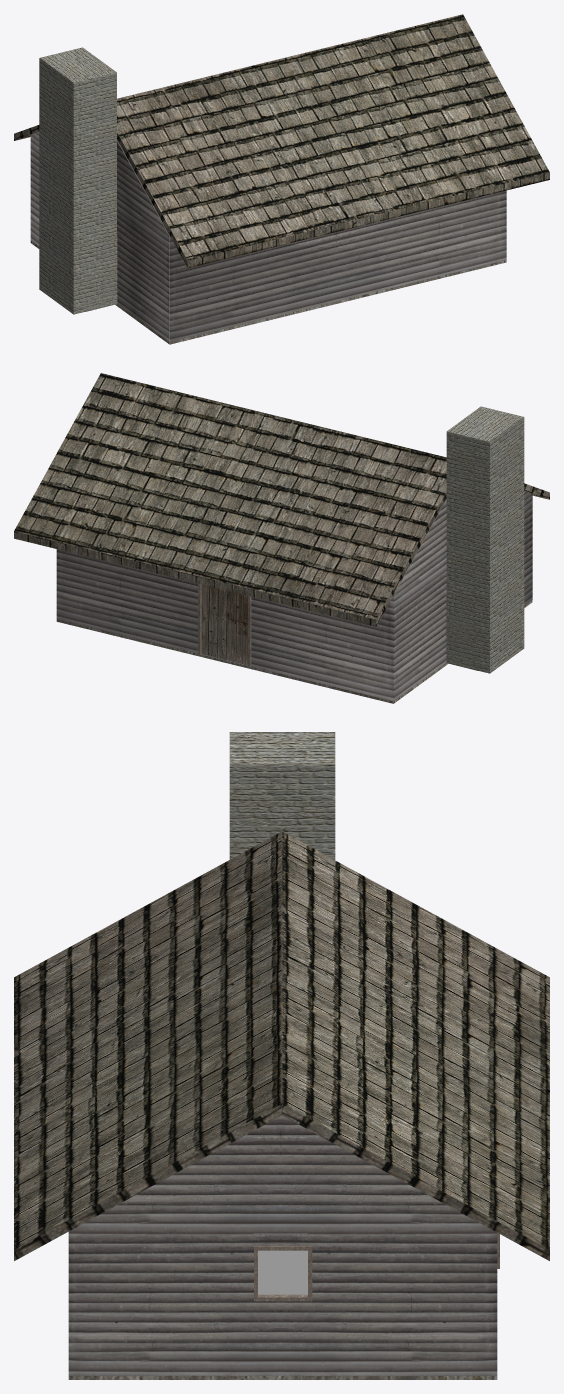
The model's file is Log Cabin.FBX.
The picture shows the model from 3 angles, top to bottom: view 1: azimuth 30°, elevation 25°; view 2: azimuth 150°, elevation 25°; view 3: azimuth 270°, elevation 25°; orthographic projection. The views are drawn at different scales.
Visible parts, largest first — view 1: Cabin Roof, Cabin in the Woods, Log Cabin Chimney, Log Cabin Floor; view 2: Cabin Roof, Cabin in the Woods, Log Cabin Chimney, Log Cabin Door, Log Cabin Floor, Cabin Door Frame; view 3: Cabin Roof, Cabin in the Woods, Log Cabin Chimney, Log Cabin Window Glass, Log Cabin Floor, Cabin Window Frame.
Boxes of the visible parts, bbox=[...] form: Cabin Roof: bbox=[14, 14, 549, 267]; Cabin in the Woods: bbox=[30, 131, 506, 341]; Log Cabin Chimney: bbox=[39, 47, 117, 314]; Log Cabin Floor: bbox=[30, 241, 506, 344]; Cabin Roof: bbox=[14, 373, 549, 626]; Cabin in the Woods: bbox=[56, 491, 532, 701]; Log Cabin Chimney: bbox=[446, 406, 524, 673]; Log Cabin Door: bbox=[201, 584, 247, 665]; Log Cabin Floor: bbox=[56, 600, 532, 703]; Cabin Door Frame: bbox=[198, 583, 251, 667]; Cabin Roof: bbox=[14, 831, 549, 1260]; Cabin in the Woods: bbox=[68, 843, 497, 1375]; Log Cabin Chimney: bbox=[229, 732, 335, 1092]; Log Cabin Window Glass: bbox=[258, 1250, 307, 1294]; Log Cabin Floor: bbox=[68, 1376, 497, 1379]; Cabin Window Frame: bbox=[254, 1246, 312, 1301].
Bounding box in the file's own units: 332 × 183 × 246.
1 material, 1 textured.
